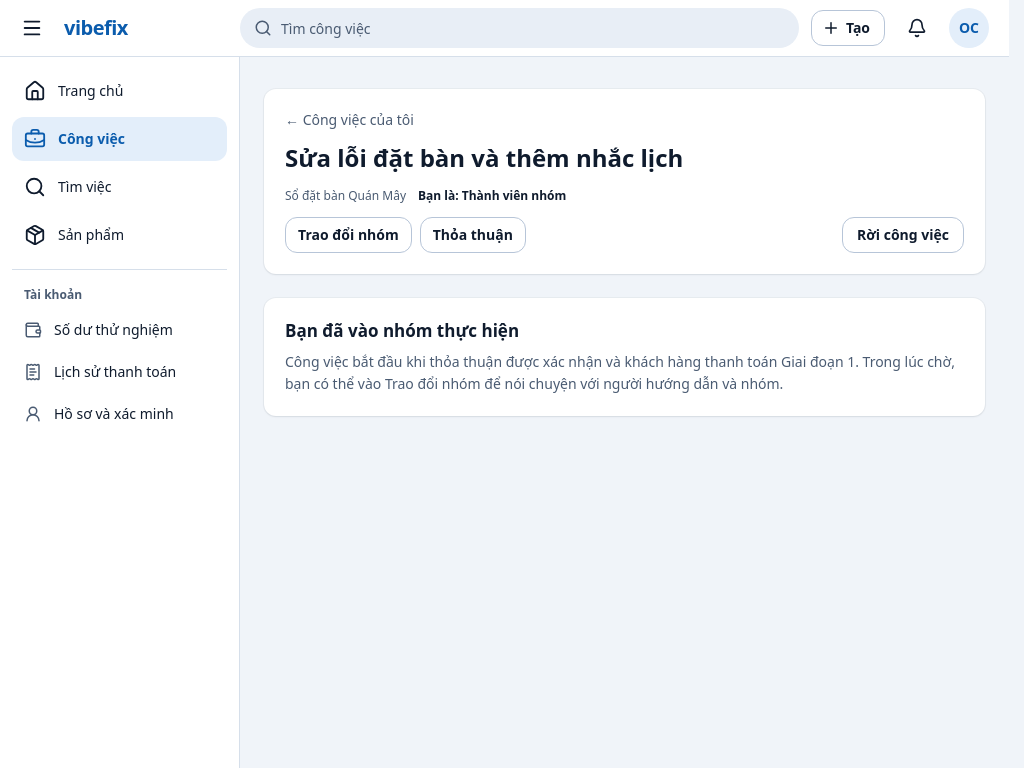
Test: JOB-1 for a Crew member (FR-77, UX-DR104) › says in a Self-mentored Job that the Customer reads the reason and is told the name
Click the button "Rời công việc" at [903, 235], box x1=842 y1=217 x2=964 y2=253
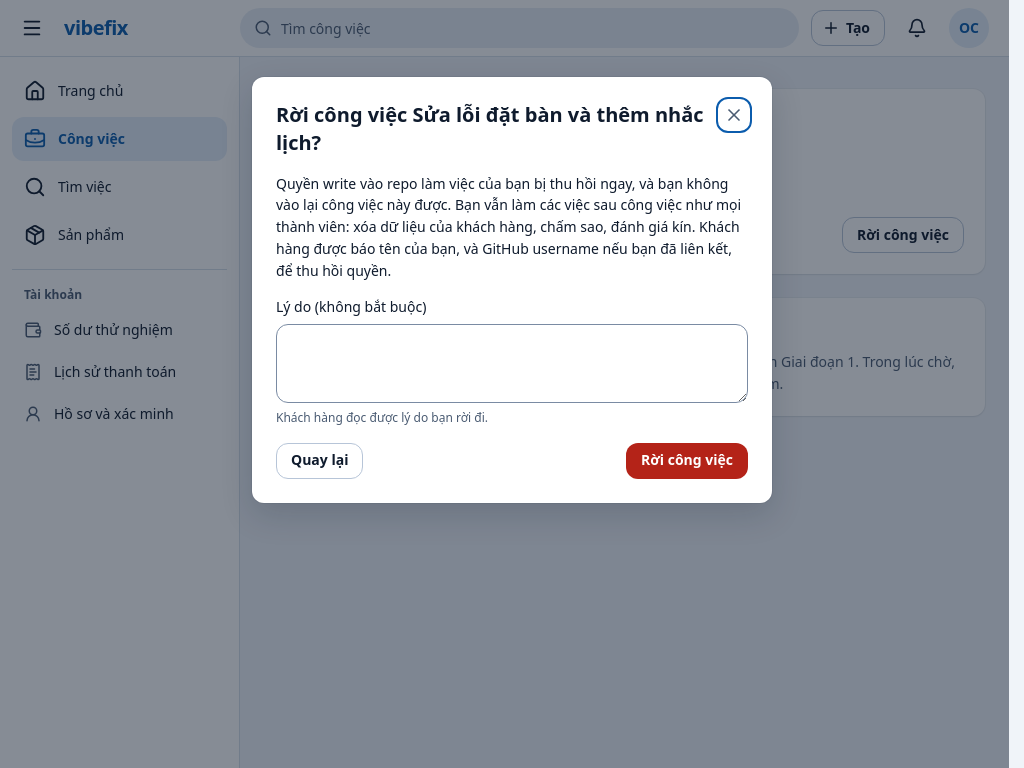
Check: the text "Khách hàng đọc được lý do bạn rời đi." is shown, box x1=276 y1=409 x2=488 y2=426
Check: the text "Khách hàng được báo tên của bạn, và GitHub username nếu bạn đã liên kết, để thu hồi quyền." is shown, box x1=276 y1=174 x2=741 y2=280
